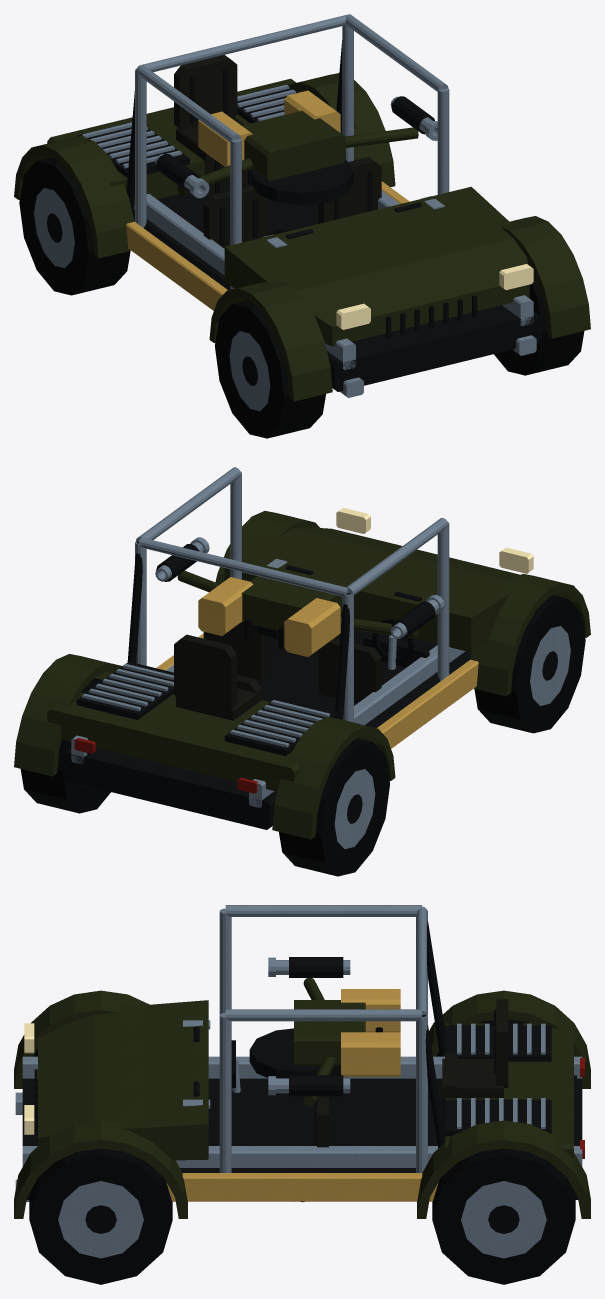
The model's file is puma-lod1.glb.
3 views of the same model, one above another, from view 1: azimuth 30°, elevation 25°; view 2: azimuth 150°, elevation 25°; view 3: azimuth 270°, elevation 25° (orthographic). The views are drawn at different scales.
Visible parts, largest first — view 1: body, turret, wheel_0, wheel_1, wheel_3; view 2: body, turret, wheel_1, wheel_0, wheel_2; view 3: body, wheel_2, wheel_3, turret.
Part boxes in pixels (bbox=[...]): body: bbox=[14, 14, 590, 401]; turret: bbox=[155, 90, 437, 204]; wheel_0: bbox=[19, 157, 130, 295]; wheel_1: bbox=[215, 300, 325, 438]; wheel_3: bbox=[494, 262, 584, 375]; body: bbox=[14, 467, 590, 839]; turret: bbox=[155, 537, 444, 656]; wheel_1: bbox=[474, 595, 585, 733]; wheel_0: bbox=[279, 738, 389, 876]; wheel_2: bbox=[20, 678, 110, 813]; body: bbox=[14, 905, 590, 1218]; wheel_2: bbox=[432, 1148, 575, 1284]; wheel_3: bbox=[29, 1148, 172, 1284]; turret: bbox=[249, 957, 400, 1106].
Size of the model in its own units: 2.1 by 1.62 by 3.38.
8 materials, 7 textured.
